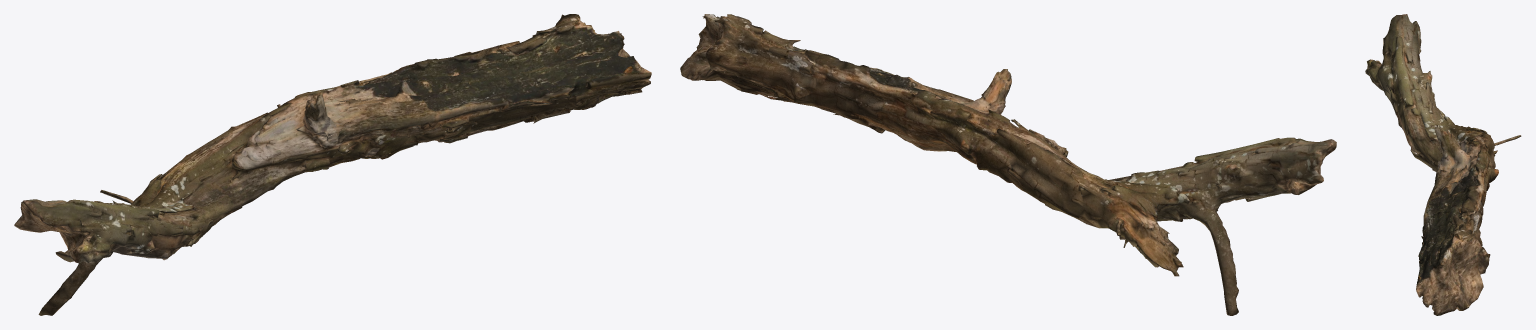
File: dead_tree_trunk_02.glb
The picture shows the model from 3 angles, left to right: view 1: azimuth 30°, elevation 25°; view 2: azimuth 150°, elevation 25°; view 3: azimuth 270°, elevation 25°; orthographic projection. The views are drawn at different scales.
Parts seen in each view (by area): view 1: dead_tree_trunk_02; view 2: dead_tree_trunk_02; view 3: dead_tree_trunk_02.
Boxes of the visible parts, bbox=[...] form: dead_tree_trunk_02: bbox=[14, 14, 651, 315]; dead_tree_trunk_02: bbox=[680, 14, 1336, 315]; dead_tree_trunk_02: bbox=[1365, 14, 1521, 315].
Bounding box in the file's own units: 4.05 × 1.05 × 1.05.
Materials: 1 (1 with a texture image).
